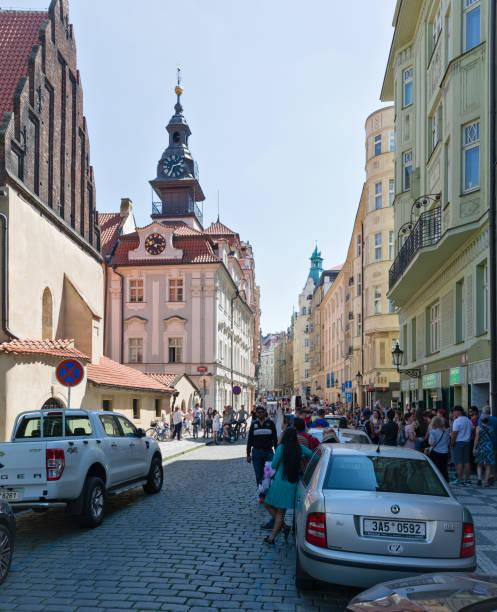skoda: (386, 502, 406, 517)
